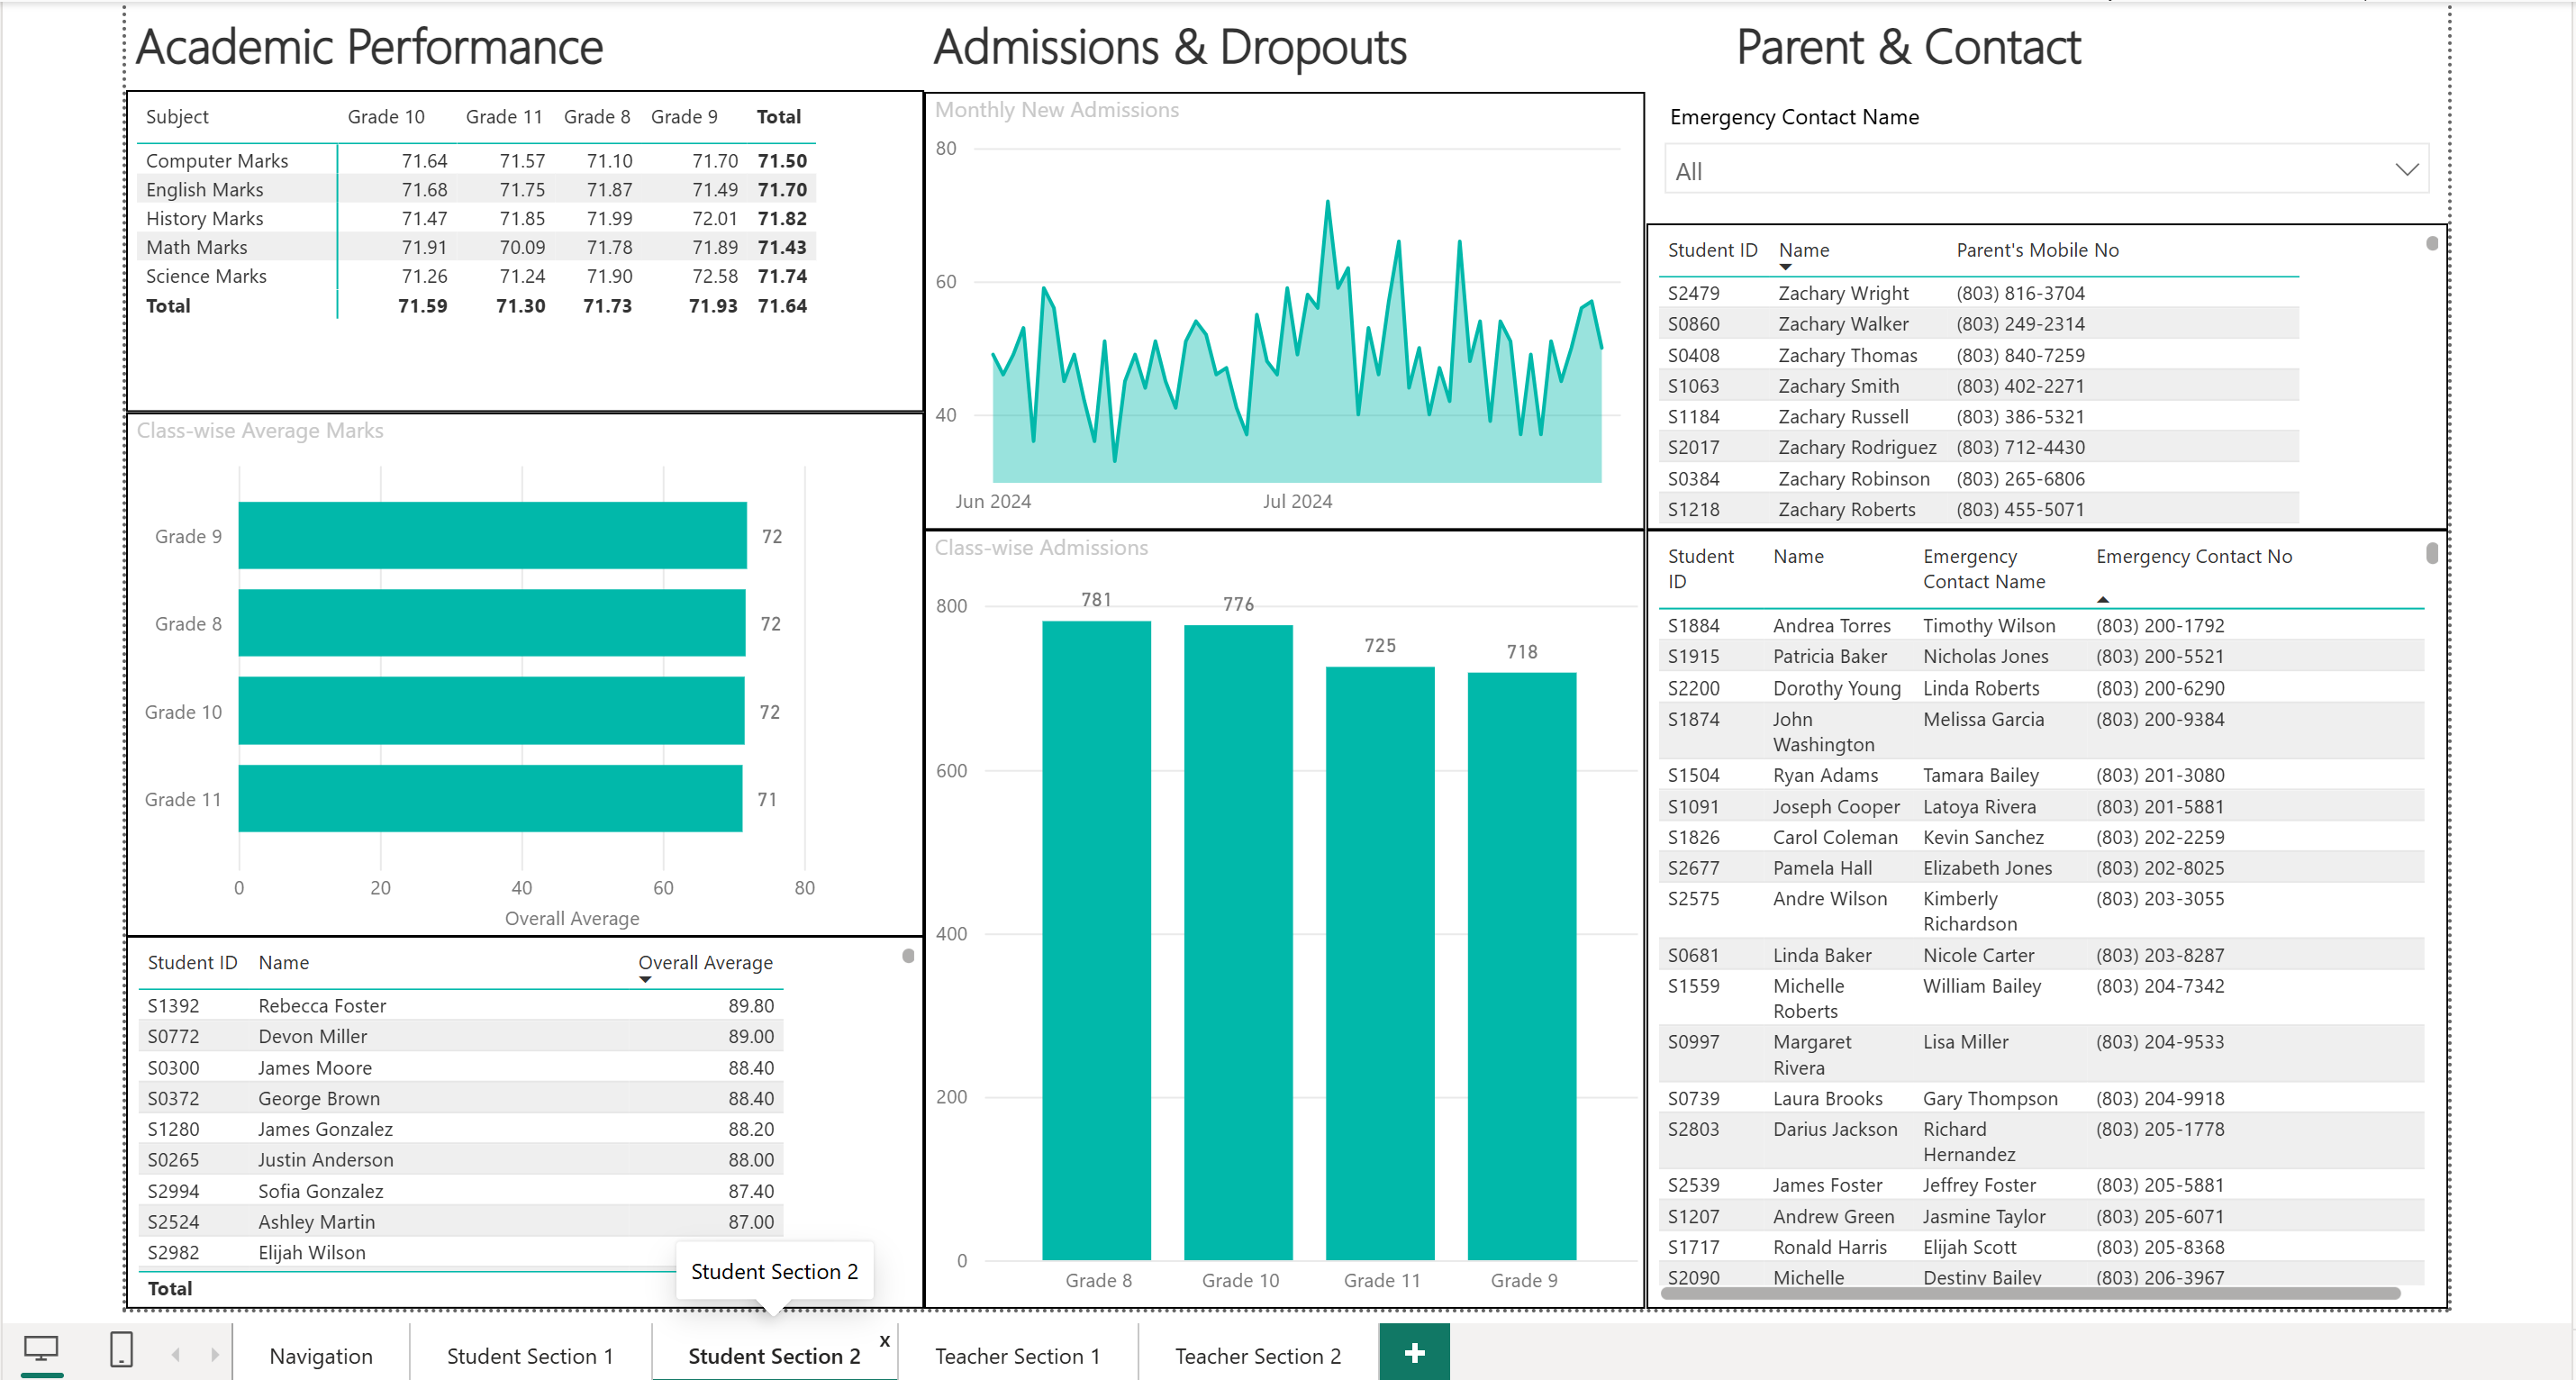

The page's visual inventory and layout, read from the dashboard file:
{"tool":"powerbi","page":{"name":"Student Section 2","canvas":[1280,720],"ordinal":2},"visuals":[{"type":"textbox","box":[0,0,440.2,48.9],"z":0,"group":"g1"},{"type":"clusteredBarChart","title":"Class-wise Average Marks","fields":{"Category":["Students Section.Class/Grade"],"Y":["Avg(Students Section.Overall Average)"]},"box":[0,226.2,440.2,288.6],"z":1000,"group":"g1"},{"type":"tableEx","fields":{"Values":["Students Section.Student ID","Students Section.Name","Avg(Students Section.Overall Average)"]},"box":[0,514.8,440.2,205.4],"z":2000,"group":"g1"},{"type":"pivotTable","fields":{"Rows":["Students Section.Subject"],"Columns":["Students Section.Class/Grade"],"Values":["Avg(Students Section.Marks)"]},"box":[0,48.9,440.2,177.3],"z":3000,"group":"g1"},{"type":"textbox","box":[440.2,0,442.7,51.4],"z":4000,"group":"g1"},{"type":"tableEx","fields":{"Values":["Students Section.Student ID","Students Section.Name","Students Section.Parent's Mobile No"]},"box":[838,122.6,442.2,169.1],"z":5000,"group":"g1"},{"type":"tableEx","fields":{"Values":["Students Section.Student ID","Students Section.Name","Students Section.Emergency Contact Name","Students Section.Emergency Contact No"]},"box":[838,290.8,442.2,429.2],"z":6000,"group":"g1"},{"type":"slicer","fields":{"Values":["Students Section.Emergency Contact Name"]},"box":[838,49.2,442.2,73.4],"z":7000,"group":"g1"},{"type":"textbox","box":[882.9,0,397.4,48.9],"z":8000,"group":"g1"},{"type":"lineChart","title":"Monthly New Admissions","fields":{"Category":["Students Section.Enrollment Date"],"Y":["Count(Students Section.Student ID)"]},"box":[440.4,49.2,397.6,241.5],"z":9000,"group":"g1"},{"type":"clusteredColumnChart","title":"Class-wise Admissions","fields":{"Category":["Students Section.Class/Grade"],"Y":["Count(Students Section.Student ID)"]},"box":[440.4,290.8,397.6,429.2],"z":10000,"group":"g1"},{"type":"group","id":"g1","title":"Student Section 2","box":[0,0,1280.3,720.2],"z":10001}]}

Visuals, with their boxes in screenshot pixels (x1, y1, x2, y2):
textbox: bbox=(114, 0, 918, 83)
"Class-wise Average Marks" clusteredBarChart: bbox=(114, 406, 918, 933)
tableEx - Students Section.Student ID x Students Section.Name: bbox=(114, 933, 918, 1308)
pivotTable - Students Section.Subject x Students Section.Class/Grade: bbox=(114, 83, 918, 406)
textbox: bbox=(918, 0, 1726, 87)
tableEx - Students Section.Student ID x Students Section.Name: bbox=(1644, 217, 2452, 526)
tableEx - Students Section.Student ID x Students Section.Name: bbox=(1644, 524, 2452, 1308)
slicer - Students Section.Emergency Contact Name: bbox=(1644, 83, 2452, 217)
textbox: bbox=(1726, 0, 2452, 83)
"Monthly New Admissions" lineChart: bbox=(918, 83, 1644, 524)
"Class-wise Admissions" clusteredColumnChart: bbox=(918, 524, 1644, 1308)
"Student Section 2" group: bbox=(114, 0, 2452, 1308)
